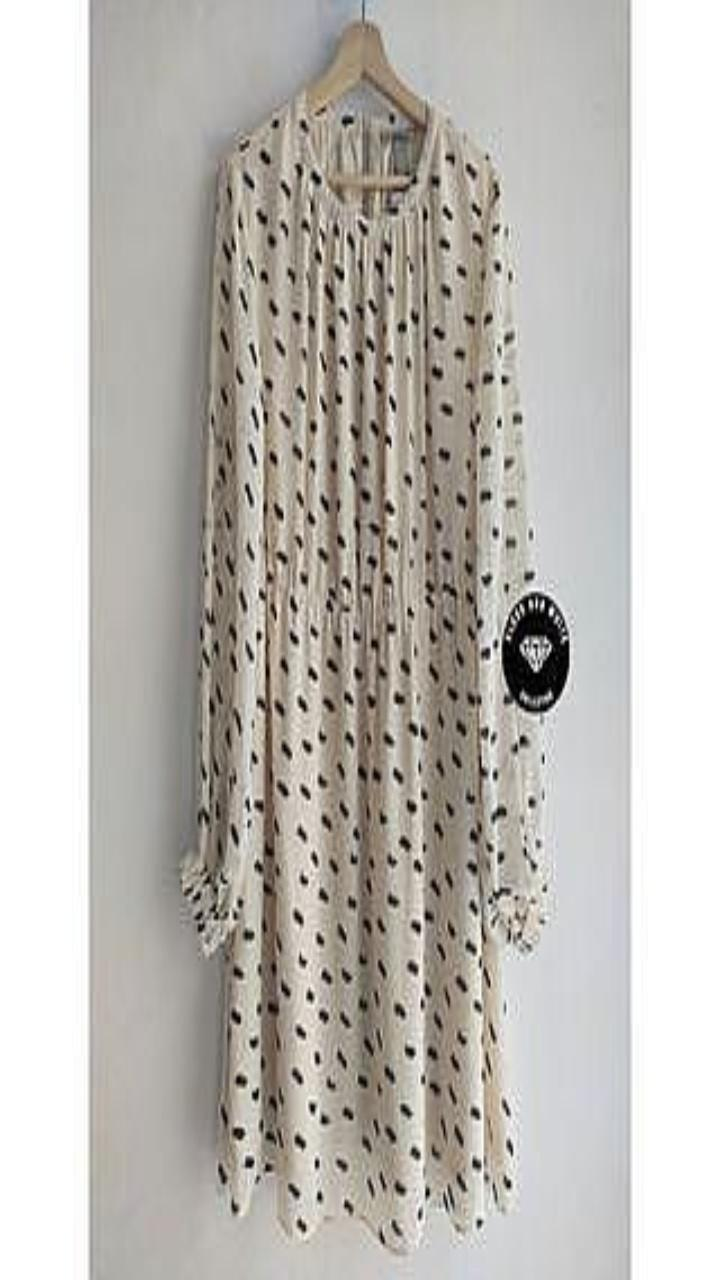Dresses: (181, 90, 547, 1251)
